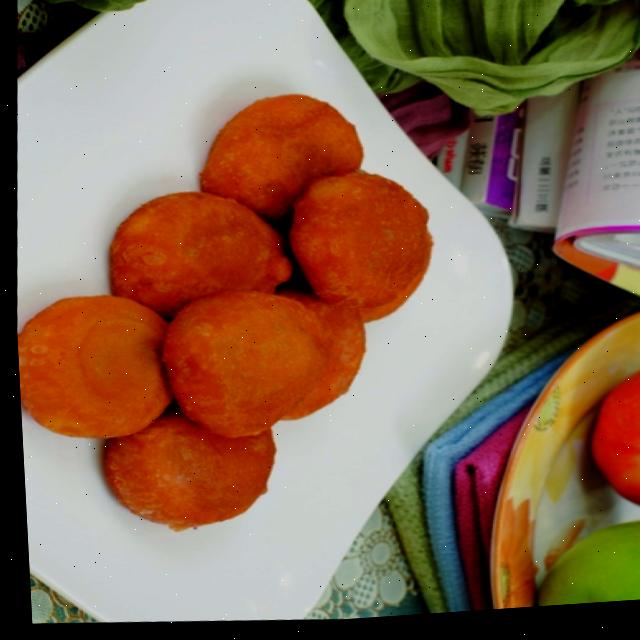炸货点心: (0, 0, 545, 640)
蛋糕甜品: (0, 0, 545, 640)
